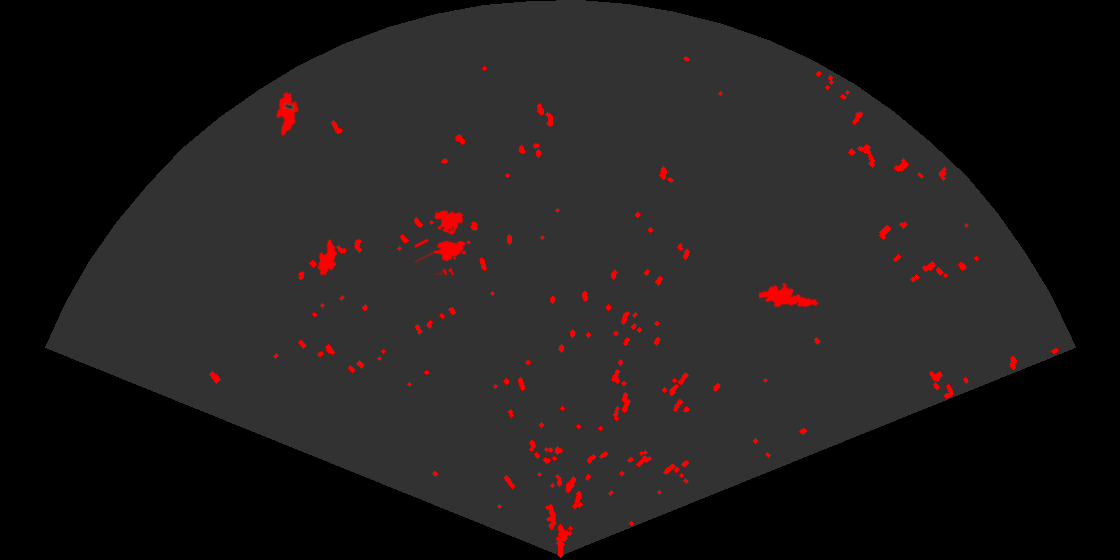AUV: (275, 90, 301, 138), (316, 237, 339, 278)
cage: (415, 209, 472, 275)
frogman: (759, 281, 819, 309)
